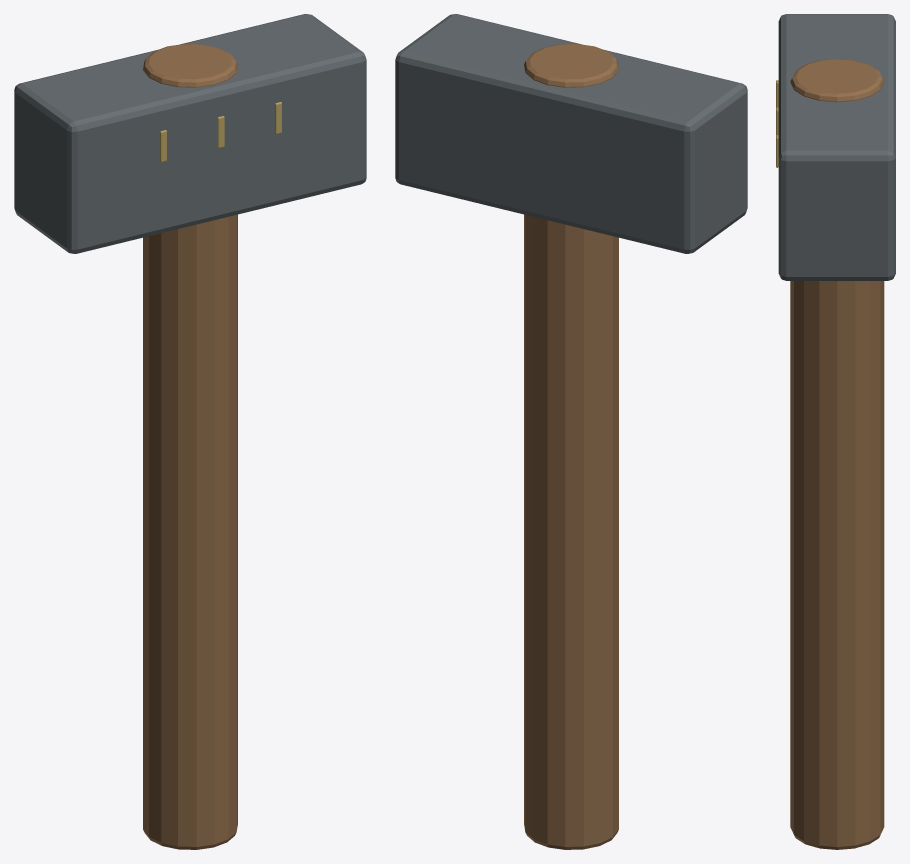
Rendered from worn_hammer.glb.
3 renders of one model, left to right at view 1: azimuth 30°, elevation 25°; view 2: azimuth 150°, elevation 25°; view 3: azimuth 270°, elevation 25°, orthographic.
Parts seen in each view (by area): view 1: Grain-following handle, Peened hammer head; view 2: Grain-following handle, Peened hammer head; view 3: Grain-following handle, Peened hammer head.
Boxes of the visible parts, x1,y1,x2,y2 form: Grain-following handle: [143, 44, 237, 849]; Peened hammer head: [14, 14, 366, 253]; Grain-following handle: [524, 44, 618, 849]; Peened hammer head: [395, 14, 747, 253]; Grain-following handle: [790, 59, 884, 849]; Peened hammer head: [778, 14, 895, 280].
Size of the model in its own units: 0.13 by 0.32 by 0.046.
